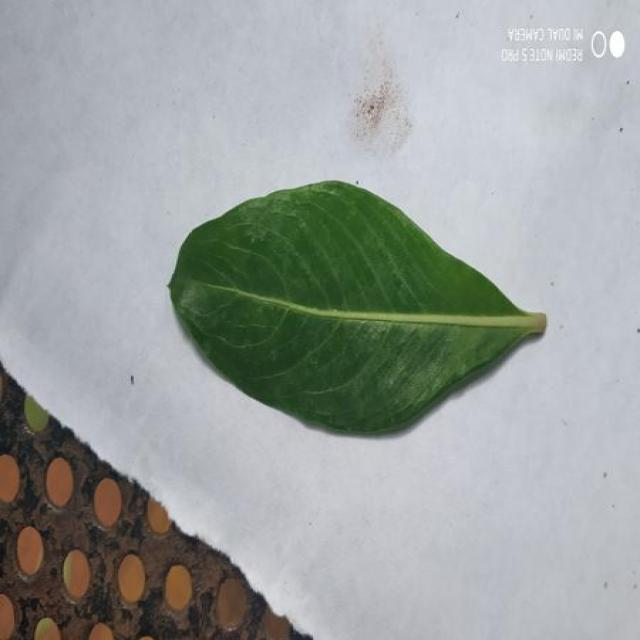catharanthus: (168, 181, 547, 434)
